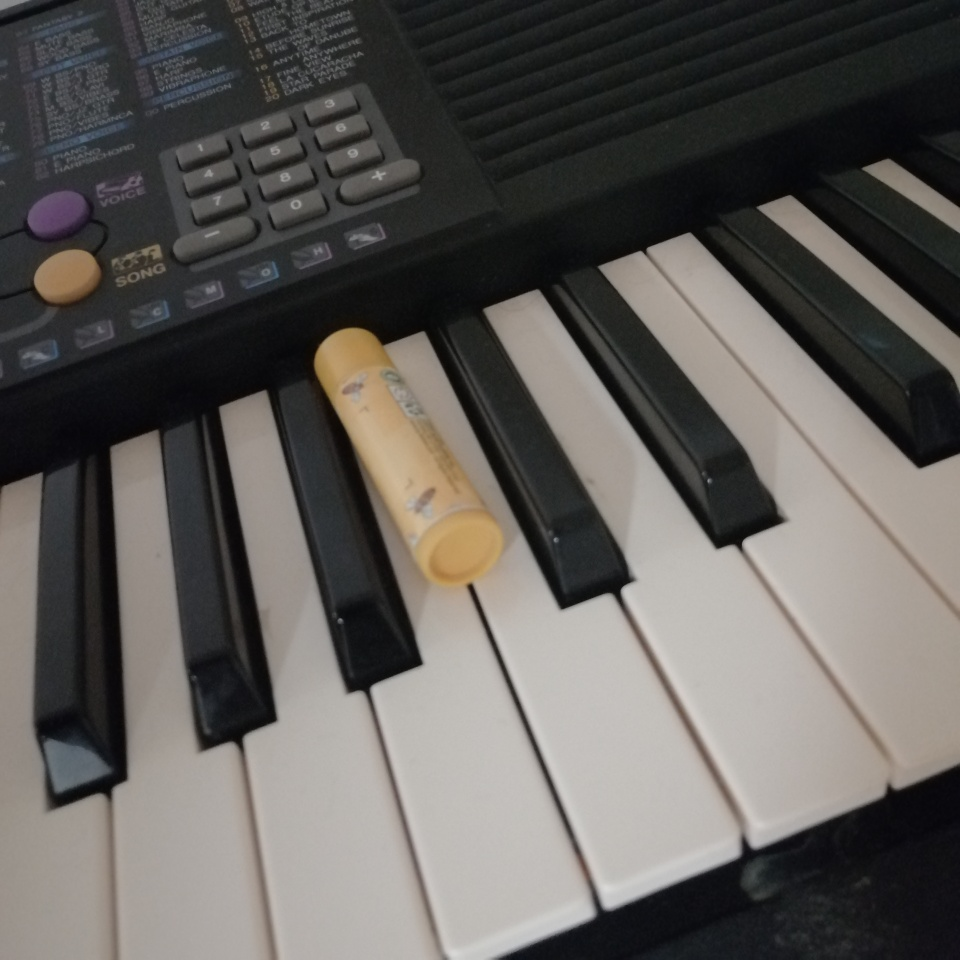chapstick: (312, 323, 504, 588)
